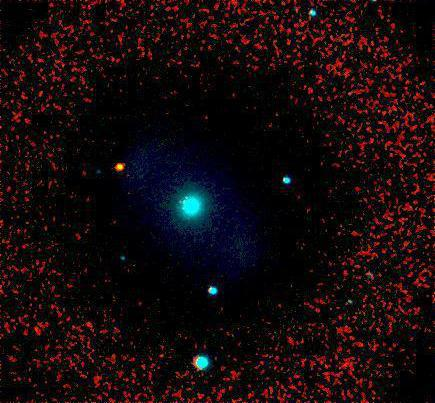star: (102, 151, 132, 181)
